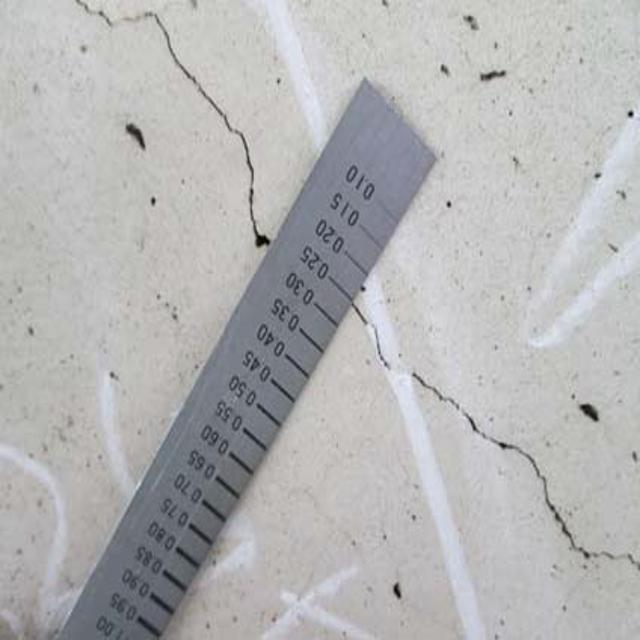crack: (354, 294, 630, 612), (76, 0, 283, 250)
